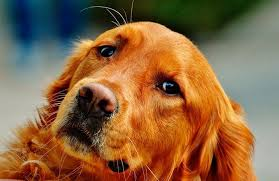dog: (1, 12, 257, 181)
